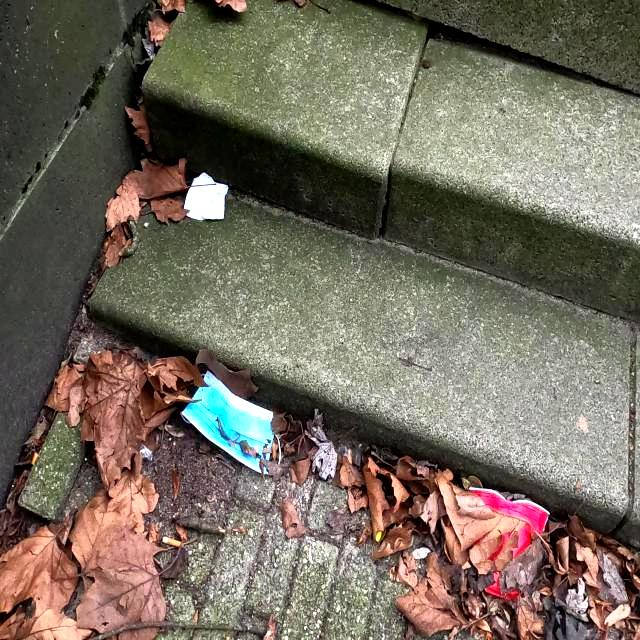Coffee Cup: (466, 485, 552, 603)
Mask: (178, 368, 282, 479)
Paper: (182, 169, 230, 221)
